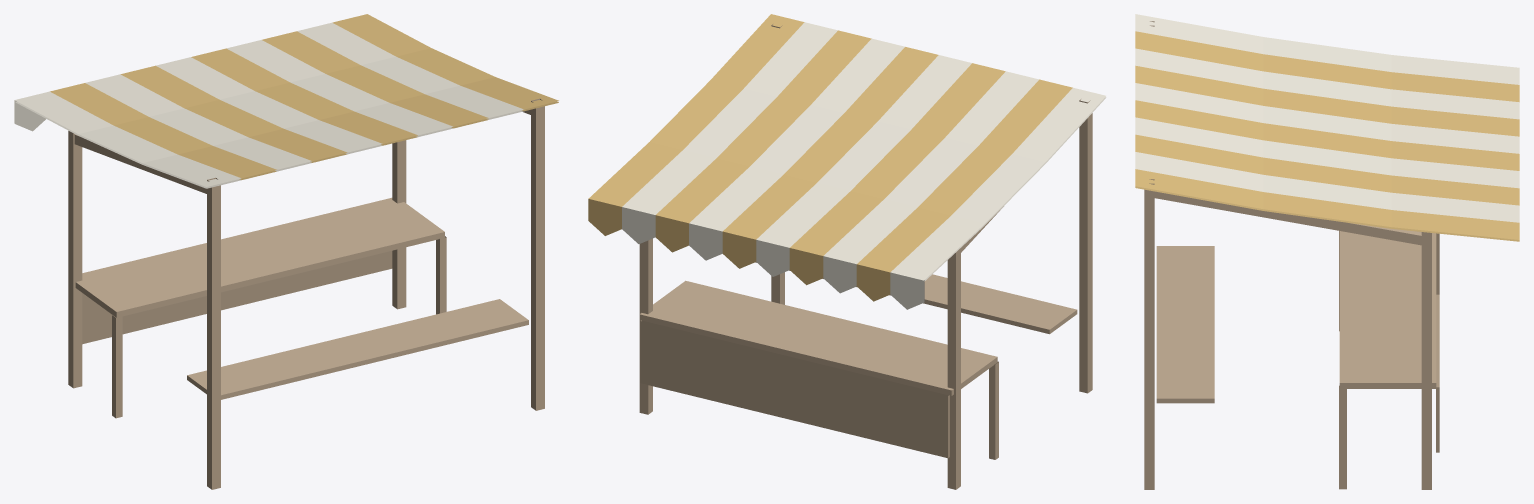
Rendered from SM_BM_BP_Stall_C.glb.
3 views of the same model, side by side, from view 1: azimuth 30°, elevation 25°; view 2: azimuth 150°, elevation 25°; view 3: azimuth 270°, elevation 25° (orthographic). The views are drawn at different scales.
Visible parts, largest first — view 1: SM_BM_BP_Stall_C; view 2: SM_BM_BP_Stall_C; view 3: SM_BM_BP_Stall_C.
Boxes of the visible parts, bbox=[...] form: SM_BM_BP_Stall_C: bbox=[14, 14, 558, 489]; SM_BM_BP_Stall_C: bbox=[588, 14, 1106, 489]; SM_BM_BP_Stall_C: bbox=[1135, 14, 1519, 489].
Size of the model in its own units: 3.16 by 2.64 by 2.98.
